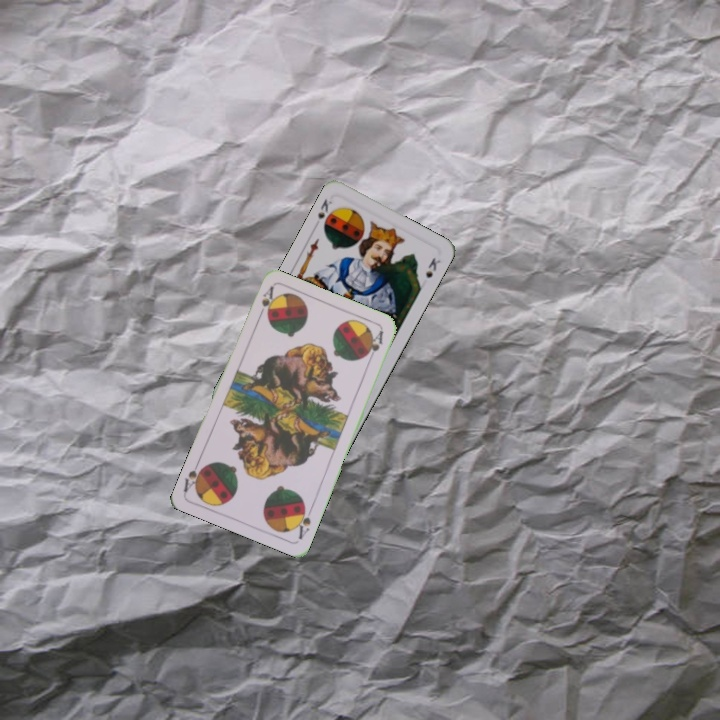SA: (291, 501, 315, 542), (254, 283, 276, 322)
SK: (313, 195, 335, 221)
